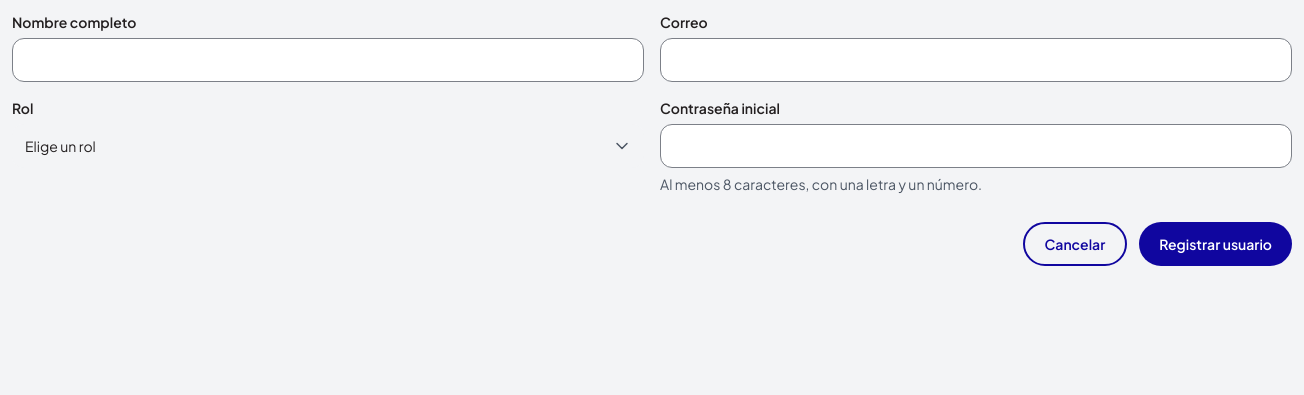
it: FormularioUsuario › el campo estación aparece solo cuando el rol es operador de estación
Expected: the field labelled "Estación" is not shown
Select "Operador de estación" in the dropdown labelled "Rol" at (328, 146), box left=12, top=124, right=644, bottom=168
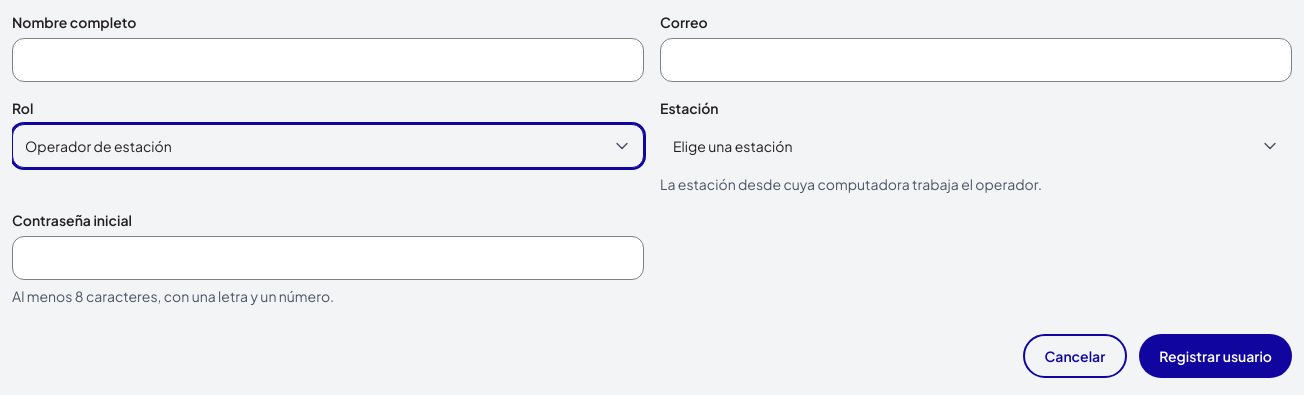
Now the dropdown labelled "Estación" is shown, box left=660, top=124, right=1292, bottom=168
Select "Supervisor municipal" in the dropdown labelled "Rol" at (328, 146), box left=12, top=124, right=644, bottom=168
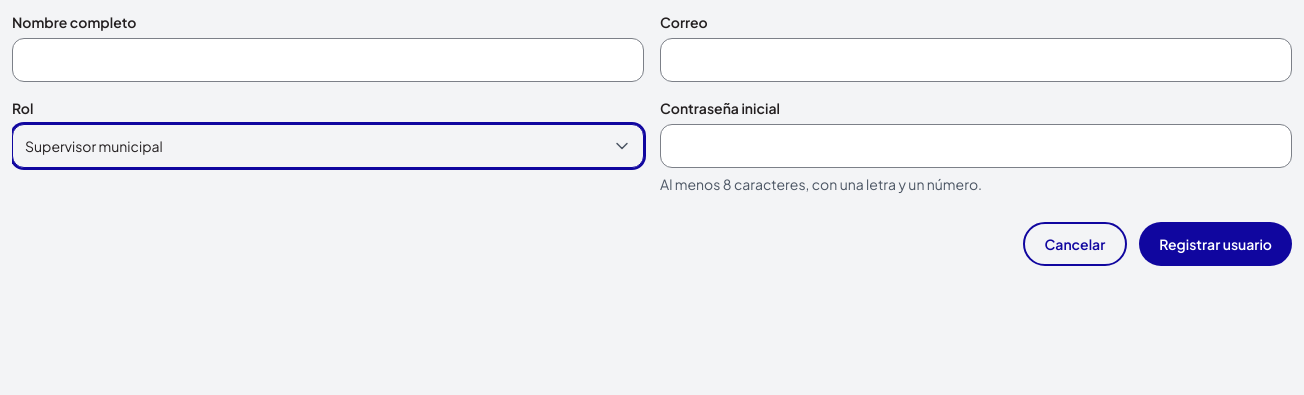
Now the label labelled "Estación" is gone
